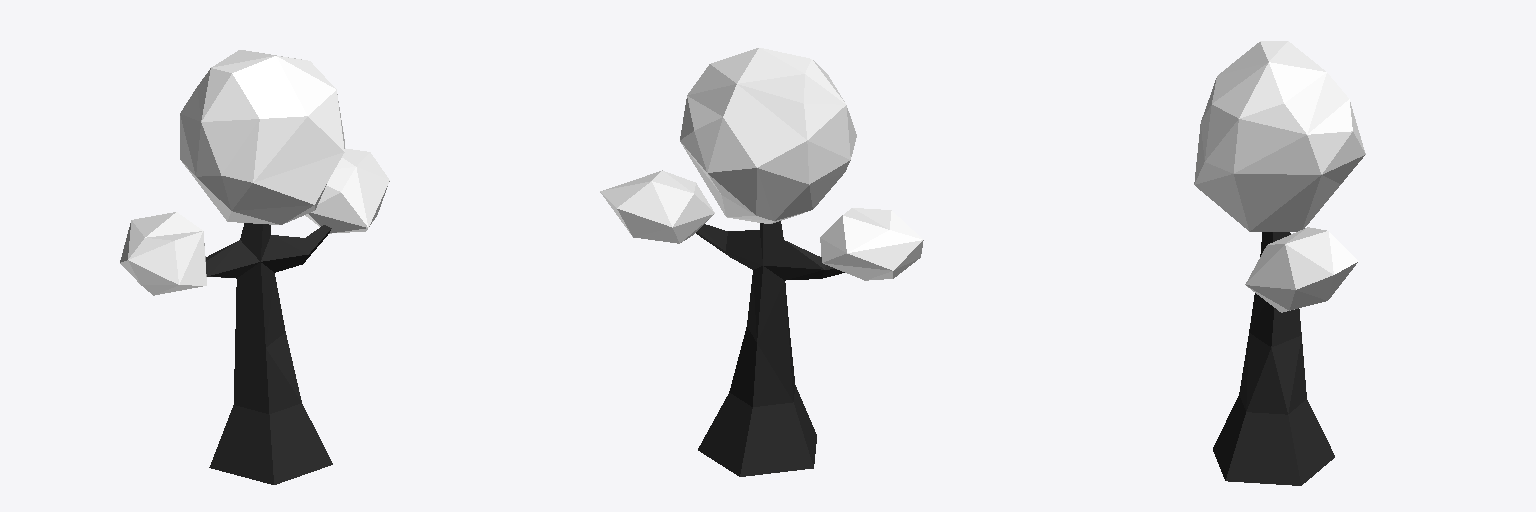
Rendered from Low_Poly_Tree_003.obj.
The picture shows the model from 3 angles: view 1: azimuth 30°, elevation 25°; view 2: azimuth 150°, elevation 25°; view 3: azimuth 270°, elevation 25°; orthographic projection.
Parts seen in each view (by area): view 1: Low_Poly_Tree_003_Circle; view 2: Low_Poly_Tree_003_Circle; view 3: Low_Poly_Tree_003_Circle.
Part boxes in pixels (bbox=[...]): Low_Poly_Tree_003_Circle: bbox=[120, 50, 389, 484]; Low_Poly_Tree_003_Circle: bbox=[600, 48, 923, 476]; Low_Poly_Tree_003_Circle: bbox=[1194, 41, 1365, 485].
Size of the model in its own units: 7.52 by 10.17 by 3.94.